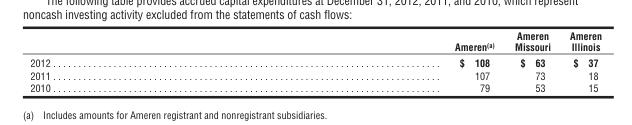table: (29, 29, 601, 93)
table column: (251, 29, 503, 93), (29, 29, 251, 93), (503, 29, 559, 93), (559, 29, 601, 93)
table column header: (29, 29, 601, 53)
table row: (29, 29, 601, 53), (29, 53, 601, 68), (29, 68, 601, 81), (29, 81, 601, 93)
